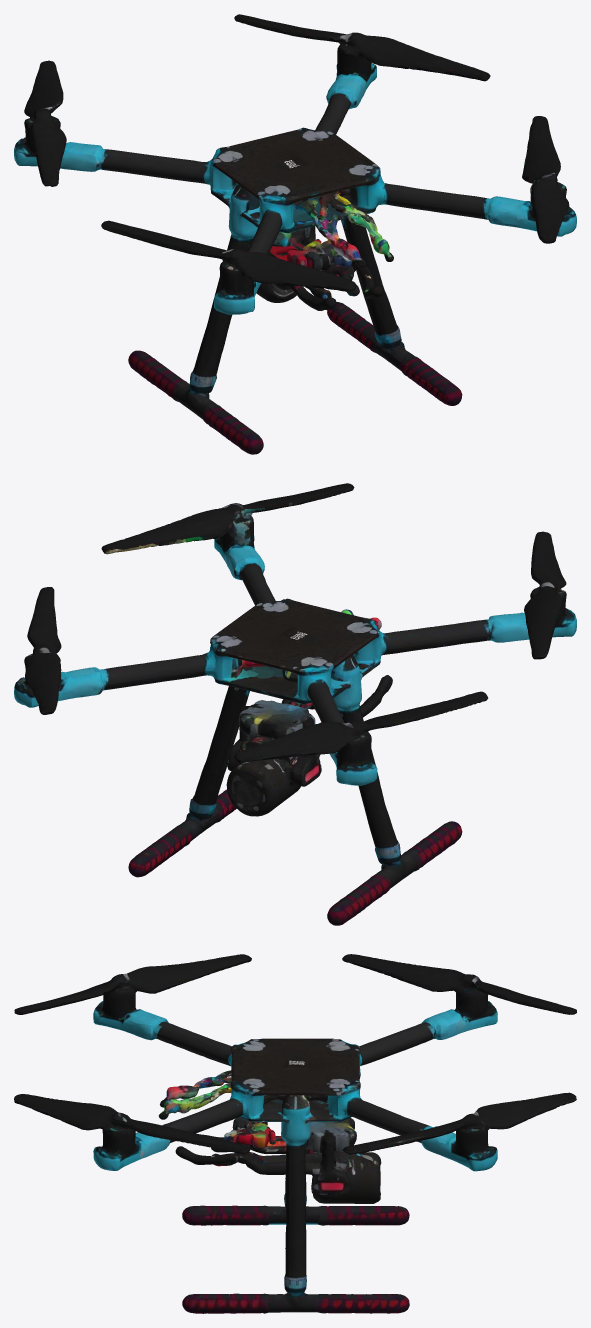
Rendered from phoenixsmalloutput.glb.
3 views of the same model, one above another, from view 1: azimuth 30°, elevation 25°; view 2: azimuth 150°, elevation 25°; view 3: azimuth 270°, elevation 25° (orthographic). The views are drawn at different scales.
Visible parts, largest first — view 1: textured_mesh.obj; view 2: textured_mesh.obj; view 3: textured_mesh.obj.
Part boxes in pixels (left/top/right/bottom): textured_mesh.obj: left=14, top=14, right=576, bottom=454; textured_mesh.obj: left=14, top=483, right=576, bottom=925; textured_mesh.obj: left=14, top=954, right=576, bottom=1313.
Bounding box in the file's own units: 1.65 × 0.8703 × 1.99.
1 material, 1 textured.
